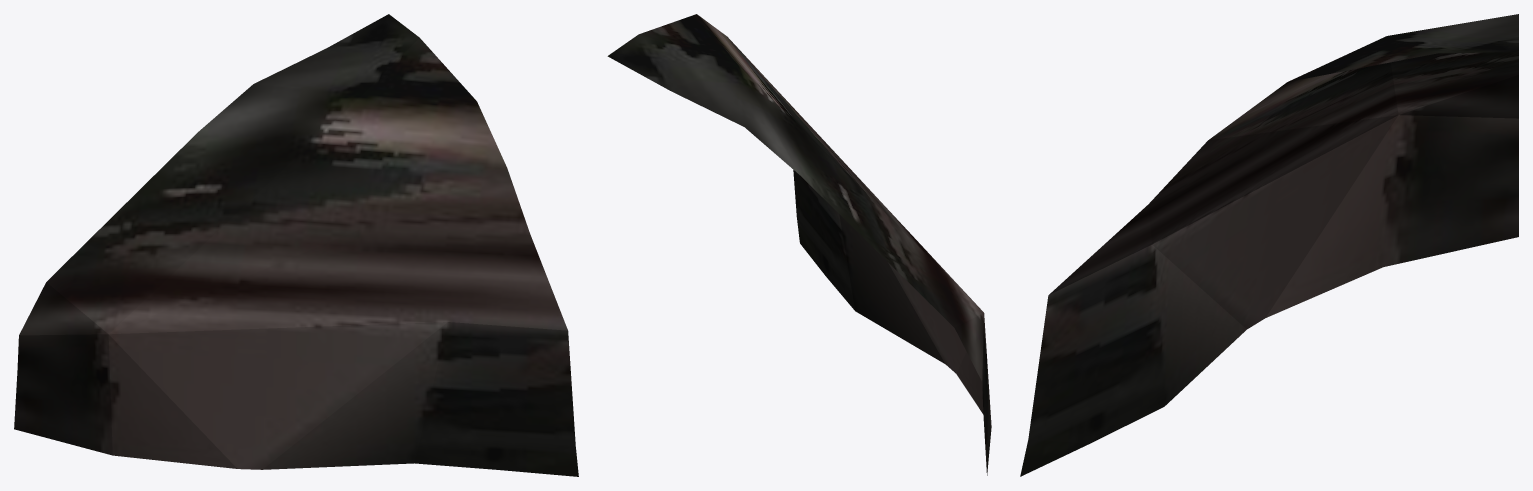
3 views of the same model, side by side, from view 1: azimuth 30°, elevation 25°; view 2: azimuth 150°, elevation 25°; view 3: azimuth 270°, elevation 25° (orthographic). The views are drawn at different scales.
Size of the model in its own units: 0.3823 by 0.3157 by 0.3358.
Materials: 1 (1 with a texture image).
